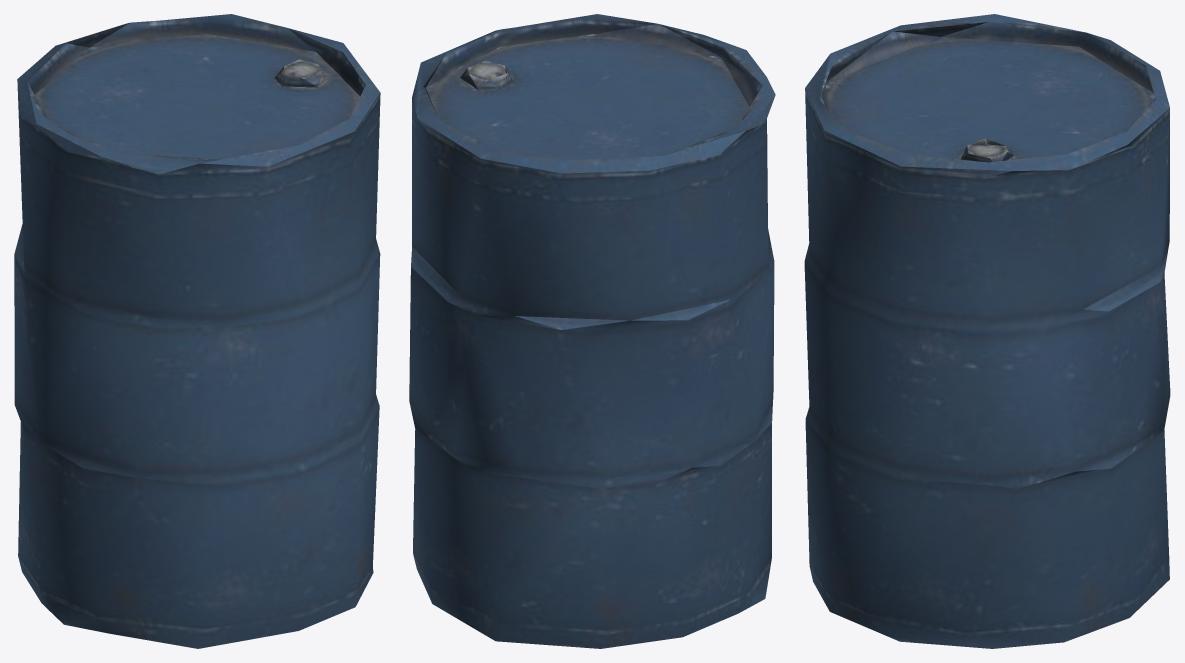
The model's file is barrel_blue.glb.
3 views of the same model, side by side, from view 1: azimuth 30°, elevation 25°; view 2: azimuth 150°, elevation 25°; view 3: azimuth 270°, elevation 25° (orthographic).
Parts seen in each view (by area): view 1: barrel_blue; view 2: barrel_blue; view 3: barrel_blue.
Part boxes in pixels (x1,y1,x2,y2): barrel_blue: (14, 14, 380, 648); barrel_blue: (409, 14, 775, 648); barrel_blue: (804, 14, 1170, 648).
Size of the model in its own units: 0.6389 by 0.9296 by 0.6341.
Materials: 1 (1 with a texture image).
